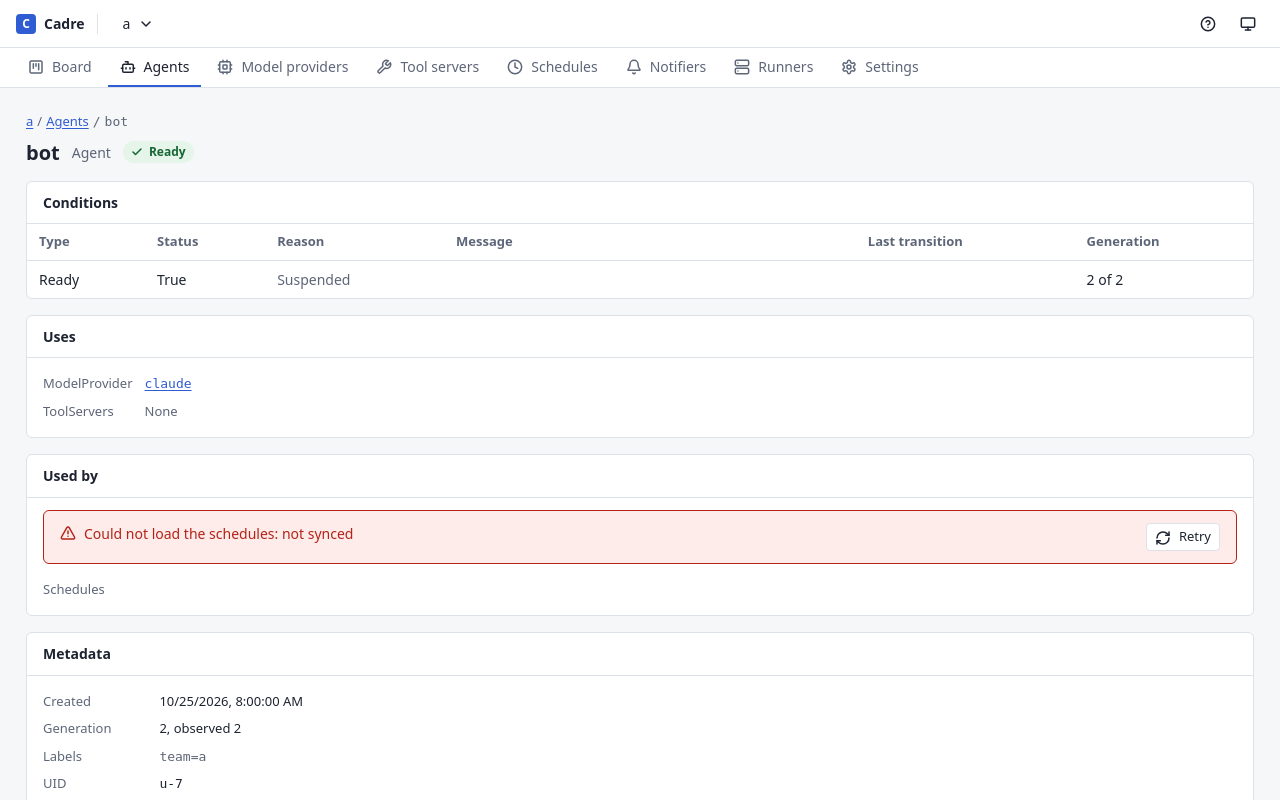
Test: An Agent's Used by › shows a failed read with Retry, which reads again
This screenshot has width=1280, height=800.
Check: the text "Could not load the schedules: not synced" is shown, box top-left (84, 524), bottom-right (354, 542)
Click the button "Retry": {"x": 1183, "y": 536} top-left (1146, 522), bottom-right (1220, 550)
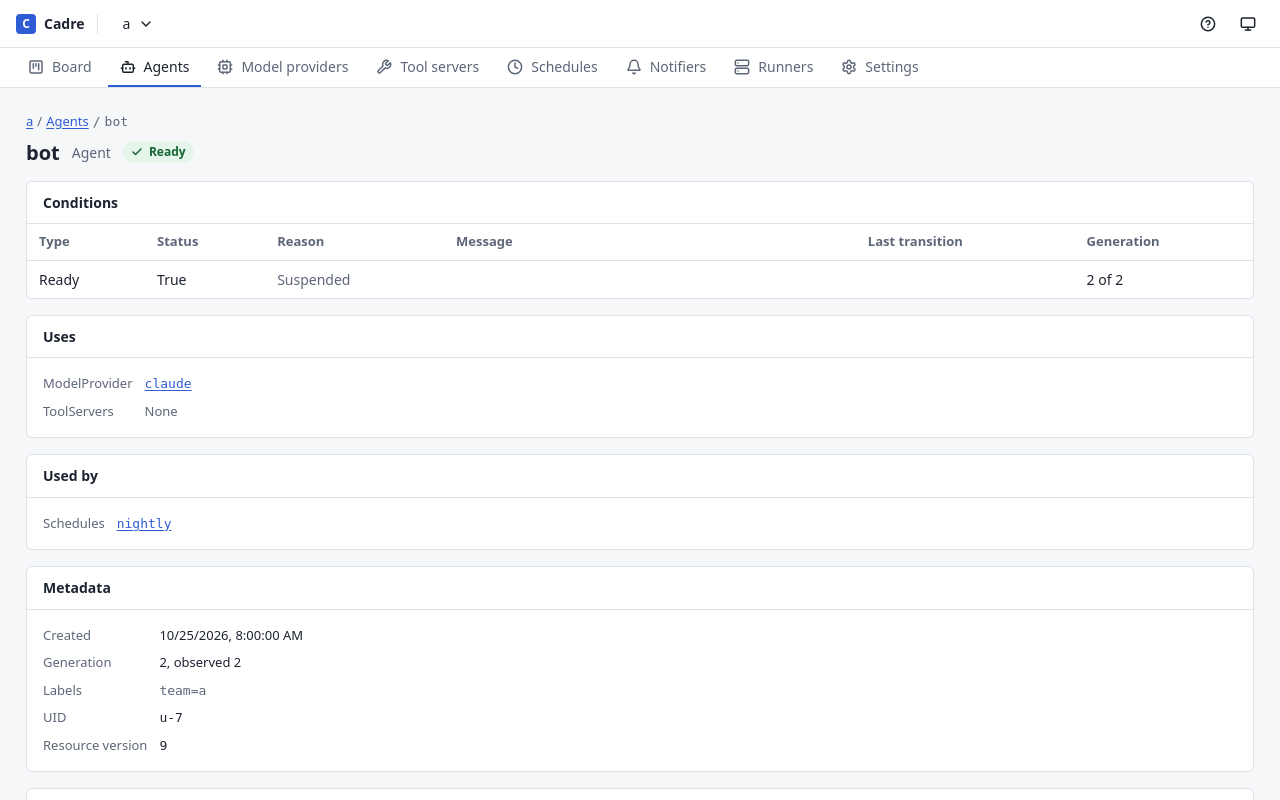
Check: the link "nightly" is shown, box top-left (117, 514), bottom-right (172, 533)
Check: the text "Could not load the schedules" is gone
